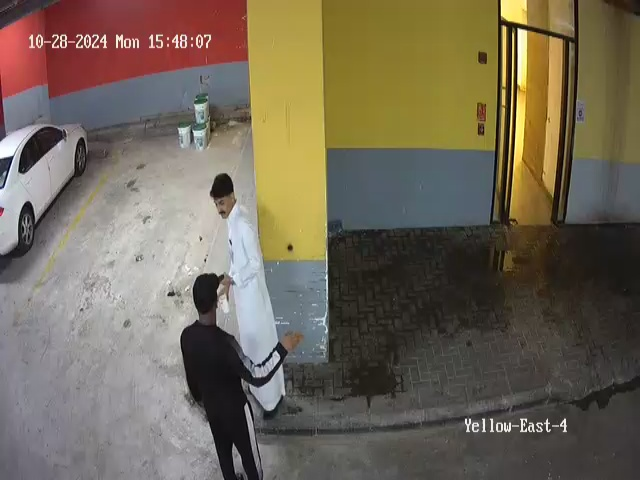male: (180, 272, 303, 480), (209, 173, 286, 415)
